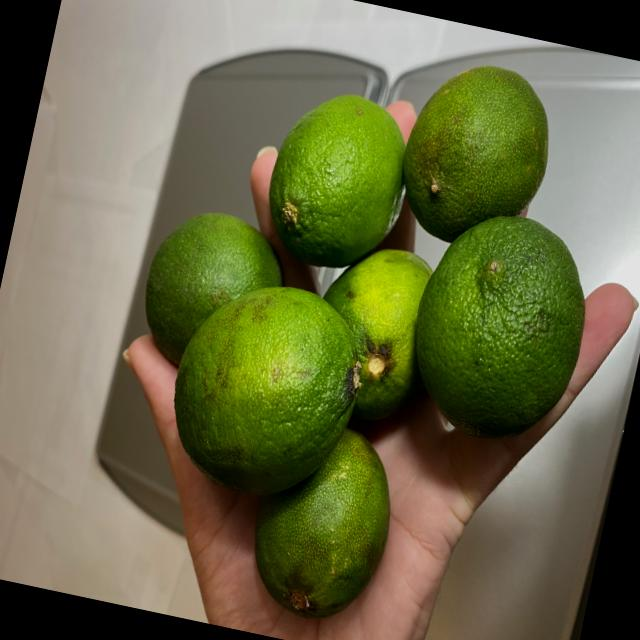lemon: (88, 0, 638, 640)
